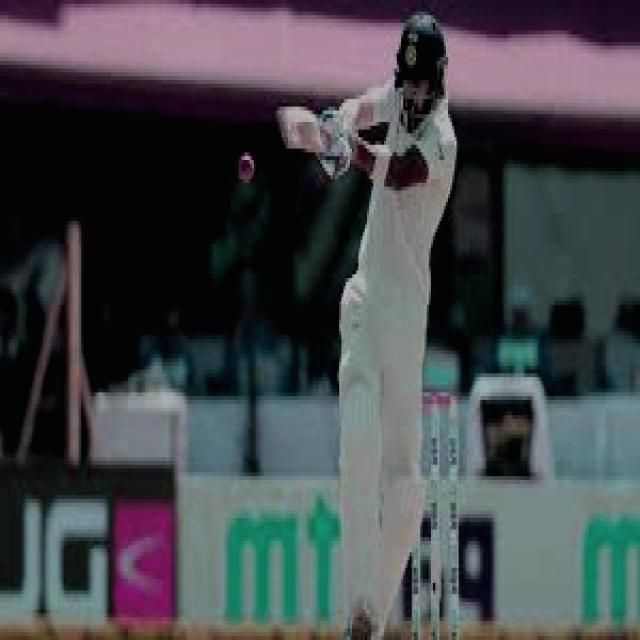toe: (277, 104, 301, 150)
